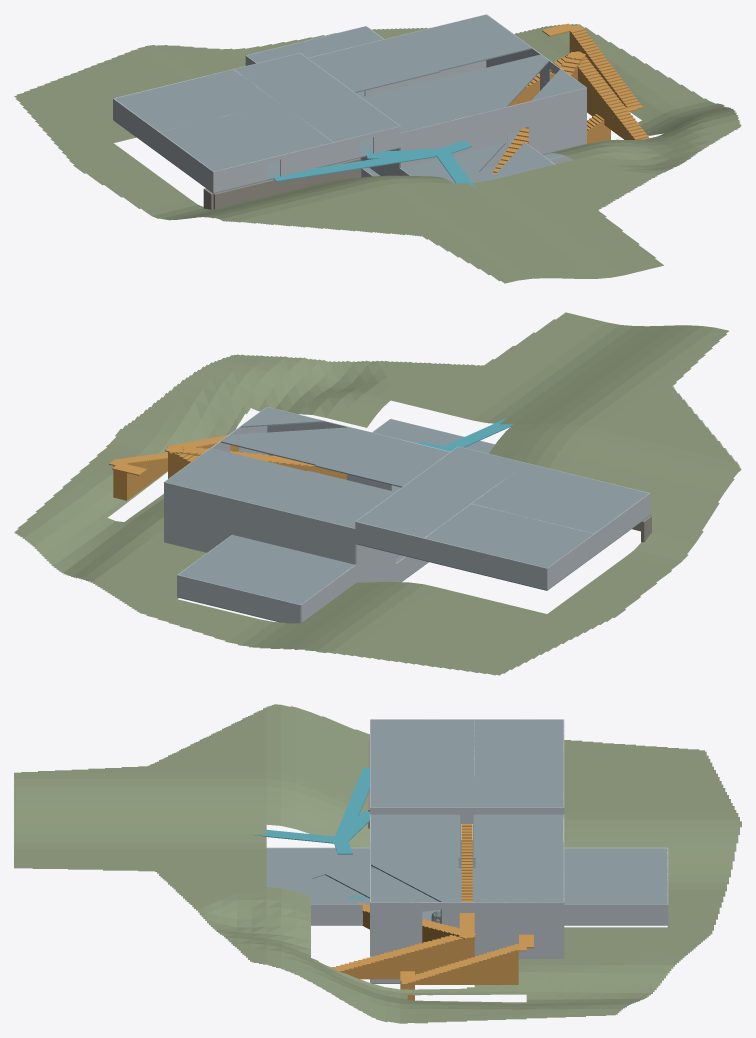
Rendered from opened-stairs.glb.
3 views of the same model, one above another, from view 1: azimuth 30°, elevation 25°; view 2: azimuth 150°, elevation 25°; view 3: azimuth 270°, elevation 25° (orthographic). The views are drawn at different scales.
Visible parts, largest first — view 1: Saved editor occupied-room terrain WLD-09, Ceiling cap west-stair, Ceiling cap control, Opened stair shell Wall turbine S.001, Ceiling cap office, Restored ceiling-cap turbine 0 region0, Ceiling cap turbine.006, Ceiling cap turbine.003, Ceiling cap turbine, Ceiling cap plant, Ceiling cap turbine.004, Wall turbine S (+14 smaller); view 2: Saved editor occupied-room terrain WLD-09, Ceiling cap west-stair, Ceiling cap control, Ceiling cap plant, Wall turbine N.001, Ceiling cap office, Restored ceiling-cap turbine 0 region0, Ceiling cap turbine.006, Wall office N, Wall plant N, Ceiling cap turbine, Ceiling cap turbine.003 (+12 smaller); view 3: Saved editor occupied-room terrain WLD-09, Opened stair shell Wall turbine E, Ceiling cap west-stair, Ceiling cap control, Ceiling cap plant, Ceiling cap office, Restored ceiling-cap turbine 0 region0, Ceiling cap turbine.006, Ceiling cap turbine, Ceiling cap turbine.003, Wall plant E, Ceiling cap turbine.004 (+12 smaller).
Part boxes in pixels (bbox=[...]): Saved editor occupied-room terrain WLD-09: bbox=[14, 24, 741, 283]; Ceiling cap west-stair: bbox=[234, 53, 399, 142]; Ceiling cap control: bbox=[160, 103, 332, 171]; Opened stair shell Wall turbine S.001: bbox=[465, 88, 586, 168]; Ceiling cap office: bbox=[115, 69, 278, 131]; Restored ceiling-cap turbine 0 region0: bbox=[409, 54, 548, 119]; Ceiling cap turbine.006: bbox=[394, 14, 531, 71]; Ceiling cap turbine.003: bbox=[362, 86, 454, 132]; Ceiling cap turbine: bbox=[308, 46, 400, 91]; Ceiling cap plant: bbox=[246, 26, 382, 63]; Ceiling cap turbine.004: bbox=[355, 37, 438, 79]; Wall turbine S: bbox=[400, 120, 455, 168]; Saved editor occupied-room terrain WLD-09: bbox=[14, 312, 741, 675]; Ceiling cap west-stair: bbox=[356, 446, 526, 537]; Ceiling cap control: bbox=[472, 463, 648, 533]; Ceiling cap plant: bbox=[178, 535, 354, 604]; Wall turbine N.001: bbox=[164, 482, 288, 550]; Ceiling cap office: bbox=[425, 504, 593, 567]; Restored ceiling-cap turbine 0 region0: bbox=[221, 427, 400, 475]; Ceiling cap turbine.006: bbox=[165, 448, 306, 505]; Wall office N: bbox=[424, 538, 547, 589]; Wall plant N: bbox=[177, 575, 300, 623]; Ceiling cap turbine: bbox=[300, 481, 394, 528]; Ceiling cap turbine.003: bbox=[355, 440, 449, 485]; Saved editor occupied-room terrain WLD-09: bbox=[14, 704, 741, 1023]; Opened stair shell Wall turbine E: bbox=[370, 902, 563, 956]; Ceiling cap west-stair: bbox=[370, 776, 563, 807]; Ceiling cap control: bbox=[370, 719, 474, 776]; Ceiling cap plant: bbox=[564, 848, 667, 904]; Ceiling cap office: bbox=[474, 719, 563, 776]; Restored ceiling-cap turbine 0 region0: bbox=[370, 840, 460, 902]; Ceiling cap turbine.006: bbox=[475, 858, 563, 902]; Ceiling cap turbine: bbox=[475, 814, 563, 840]; Ceiling cap turbine.003: bbox=[370, 814, 458, 840]; Wall plant E: bbox=[564, 904, 667, 924]; Ceiling cap turbine.004: bbox=[475, 840, 563, 858].
Size of the model in its own units: 85 by 13.16 by 98.
26 materials, 17 textured.
